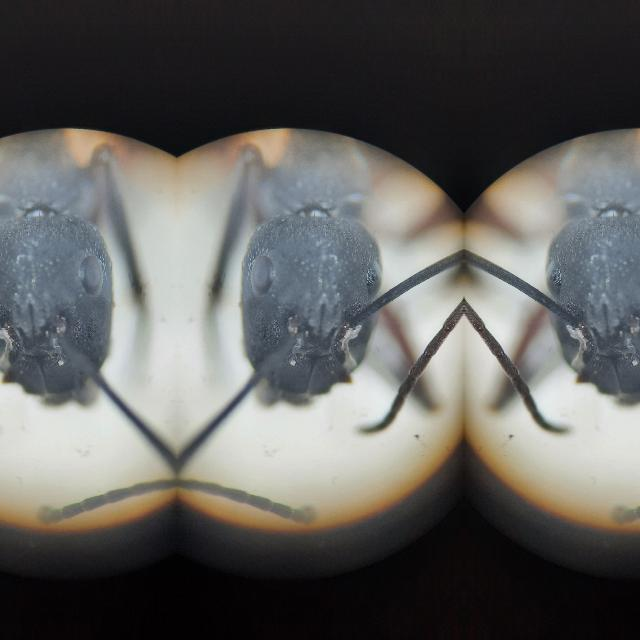Camponotus: (204, 145, 446, 498), (480, 144, 640, 496), (0, 144, 148, 496)
